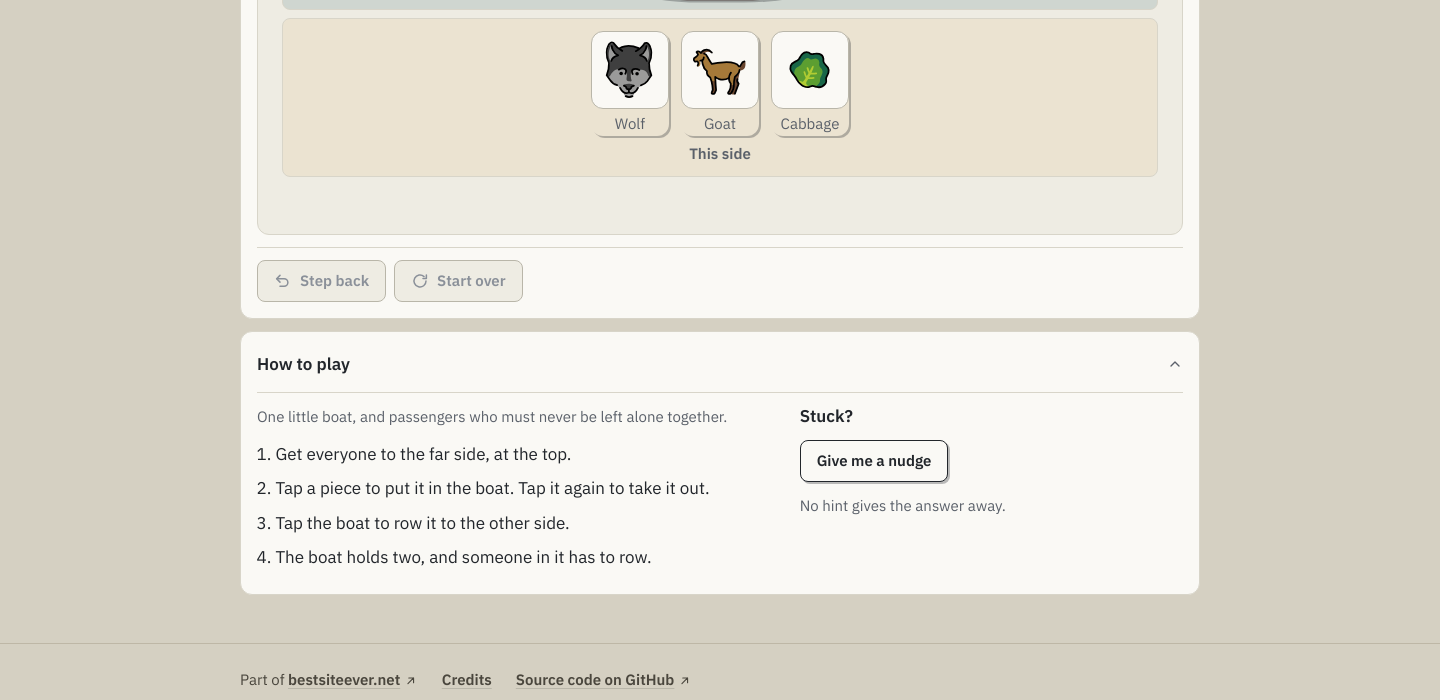
Test: playing a puzzle › hands out hints one at a time
(page scrolled)
Click the button "Give me a nudge" at (874,461), box [800,440,948,482]
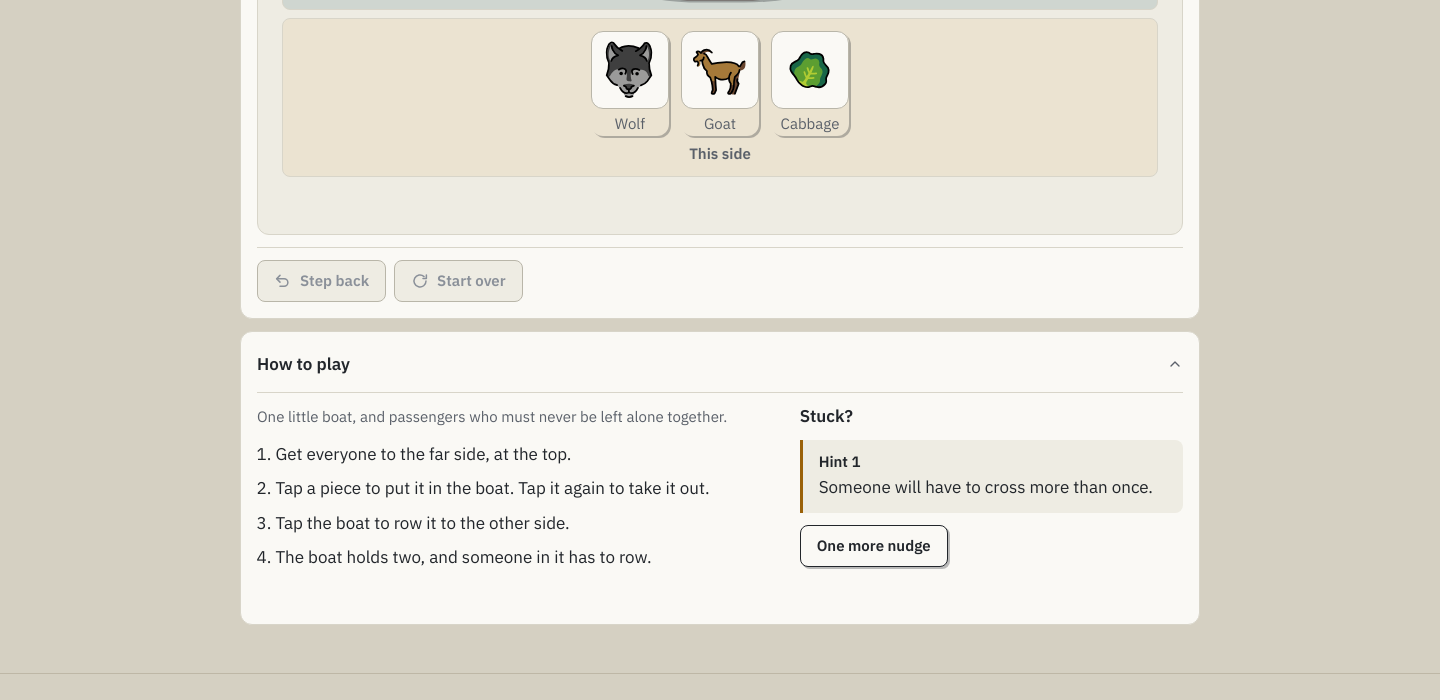
Expected: the text "Hint 2" is not shown
Expected: the text "Hint 1" is shown, [819,452,860,471]
Click the button "One more nudge" at (874,546), box [800,526,948,568]
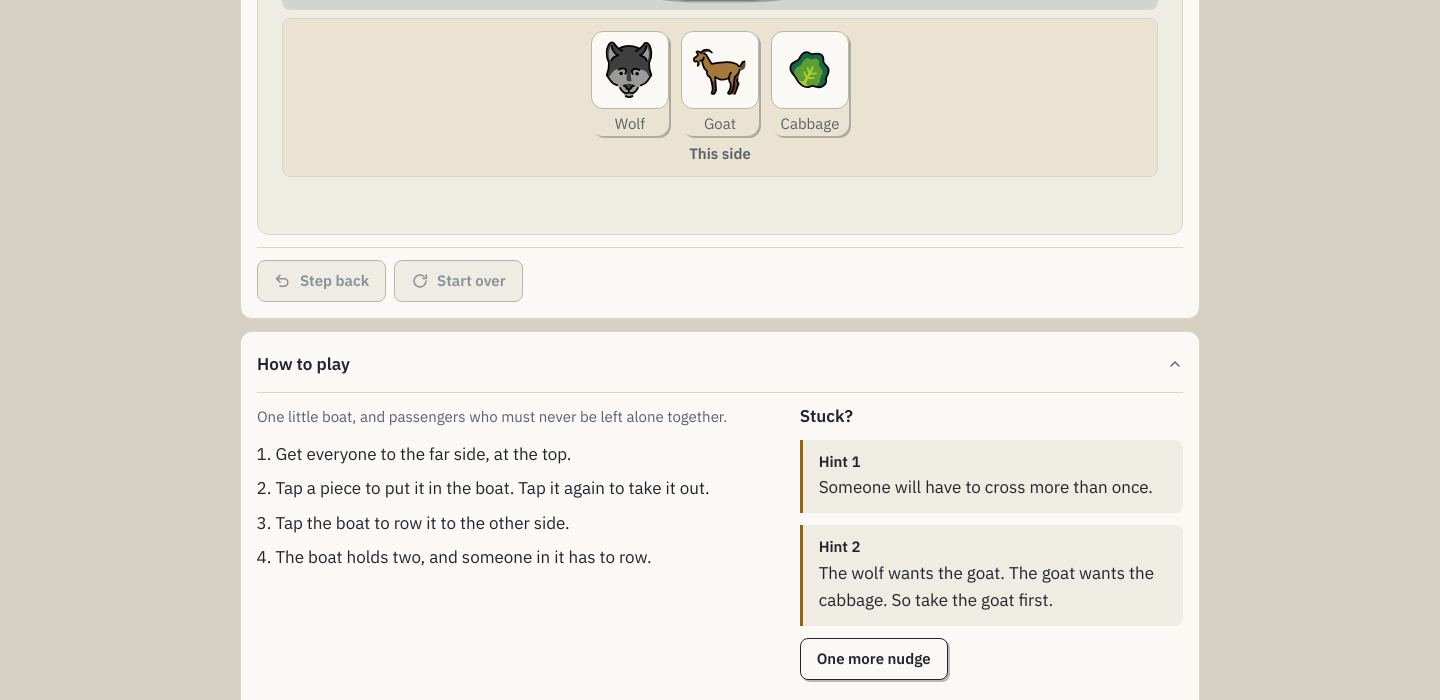
Expected: the text "Hint 2" is shown, [819,538,860,556]
